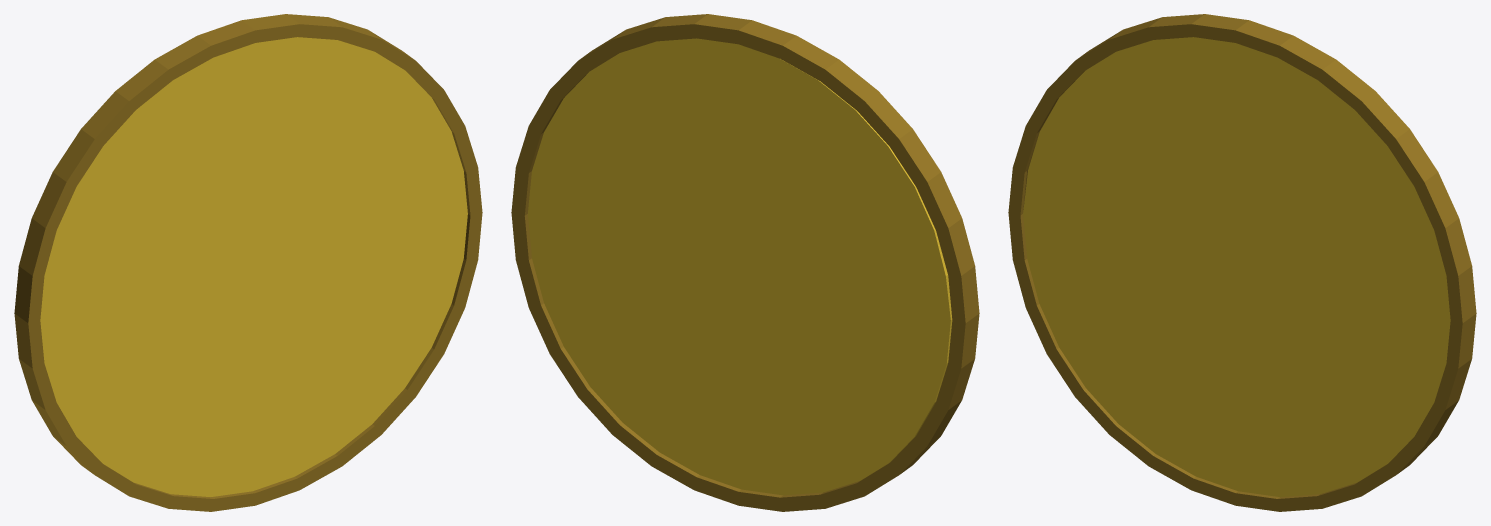
File: coin.fbx
3 views of the same model, side by side, from view 1: azimuth 30°, elevation 25°; view 2: azimuth 150°, elevation 25°; view 3: azimuth 330°, elevation 25° (orthographic).
Visible parts, largest first — view 1: Inner, Ring; view 2: Inner, Ring; view 3: Inner, Ring.
Boxes of the visible parts, box(x1,y1,x2,y2) form: Inner: box(40, 37, 467, 496); Ring: box(14, 14, 482, 511); Inner: box(528, 38, 952, 495); Ring: box(511, 14, 979, 511); Inner: box(1023, 37, 1450, 496); Ring: box(1008, 14, 1476, 511).
Bounding box in the file's own units: 17.06 × 17.06 × 0.9022.
